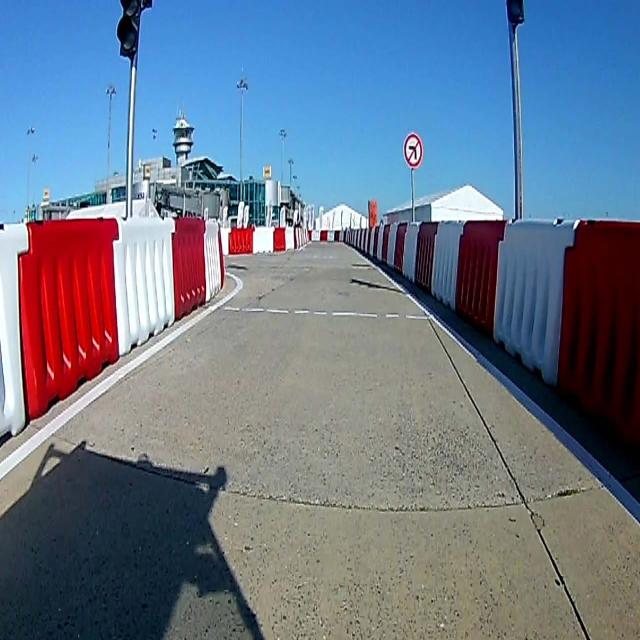soladonulmez: (404, 134, 423, 166)
